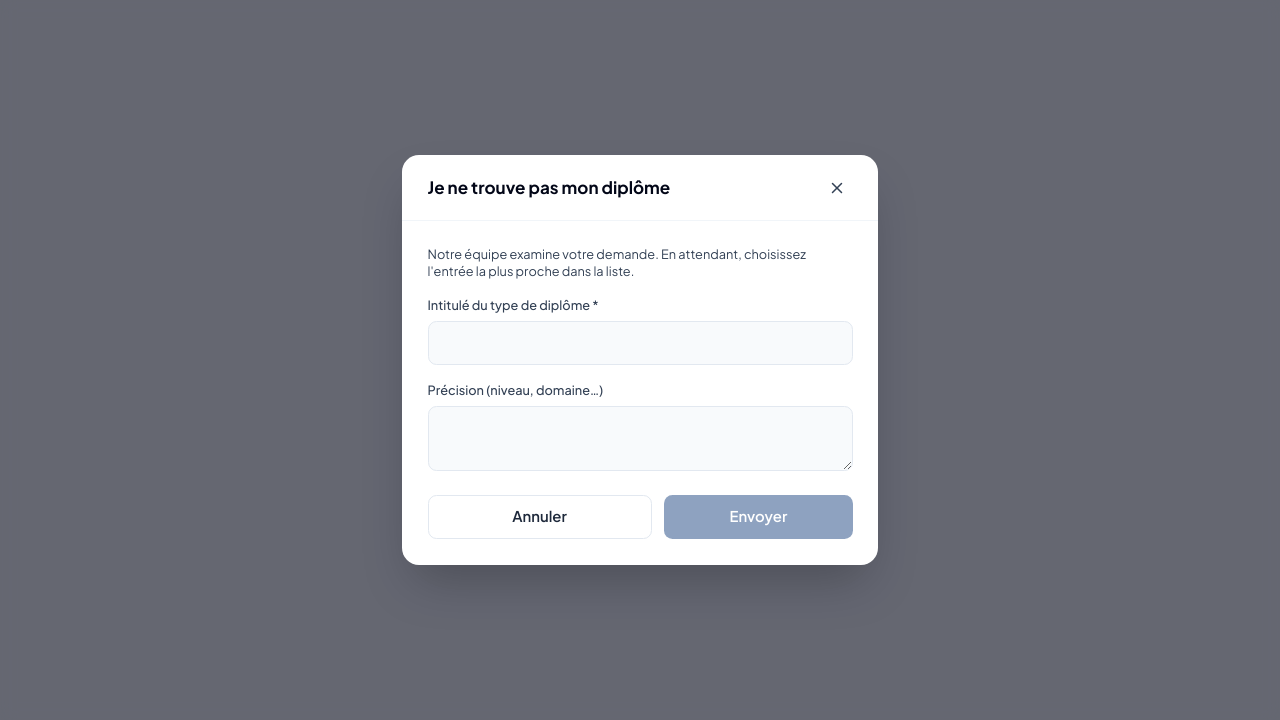
Test: 💡 <ProposerEntreeModal /> — « Je ne trouve pas mon diplôme / ma spécialité » › 🔒 Pas d'envoi sous 3 caractères
Expected: the button "Envoyer" is disabled, [664,495,852,539]
In the field labelled "Intitulé du type de diplôme *": (640, 343) [428,321,852,365], type "ab"
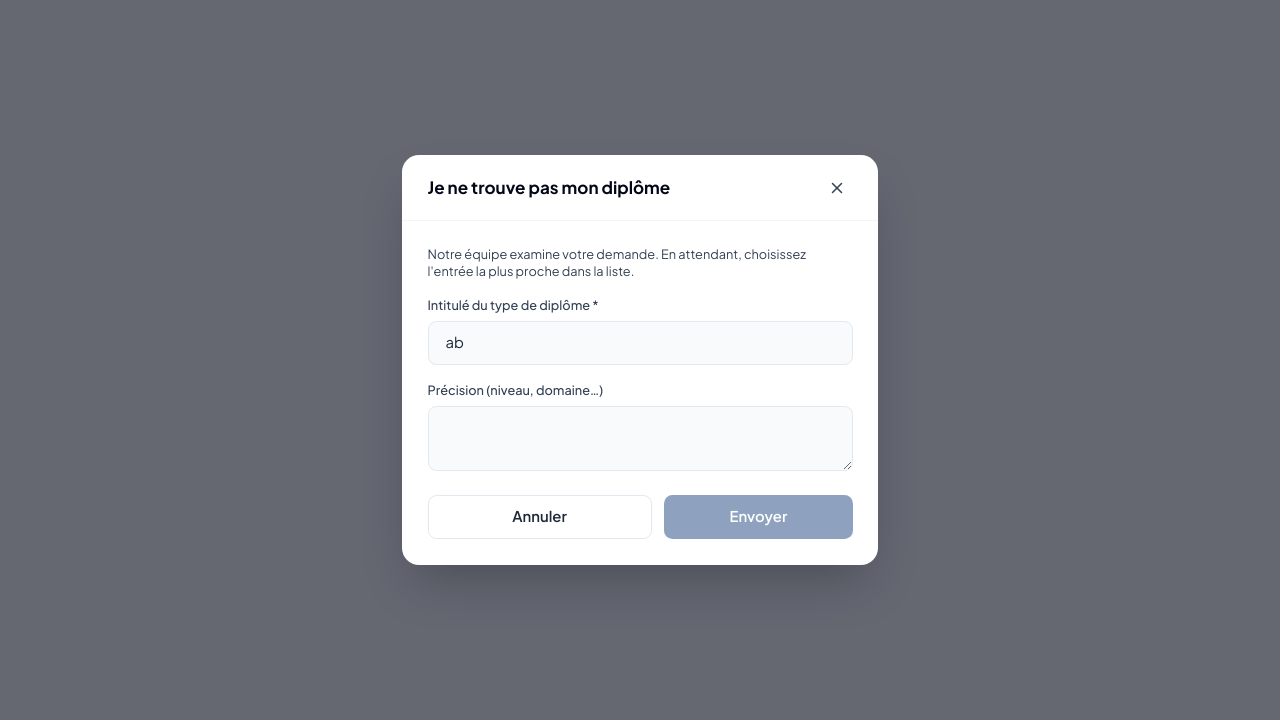
Expected: the button "Envoyer" is disabled, [664,495,852,539]
Replace the text in the field labelled "Intitulé du type de diplôme *" with "abc": (640, 343) [428,321,852,365]
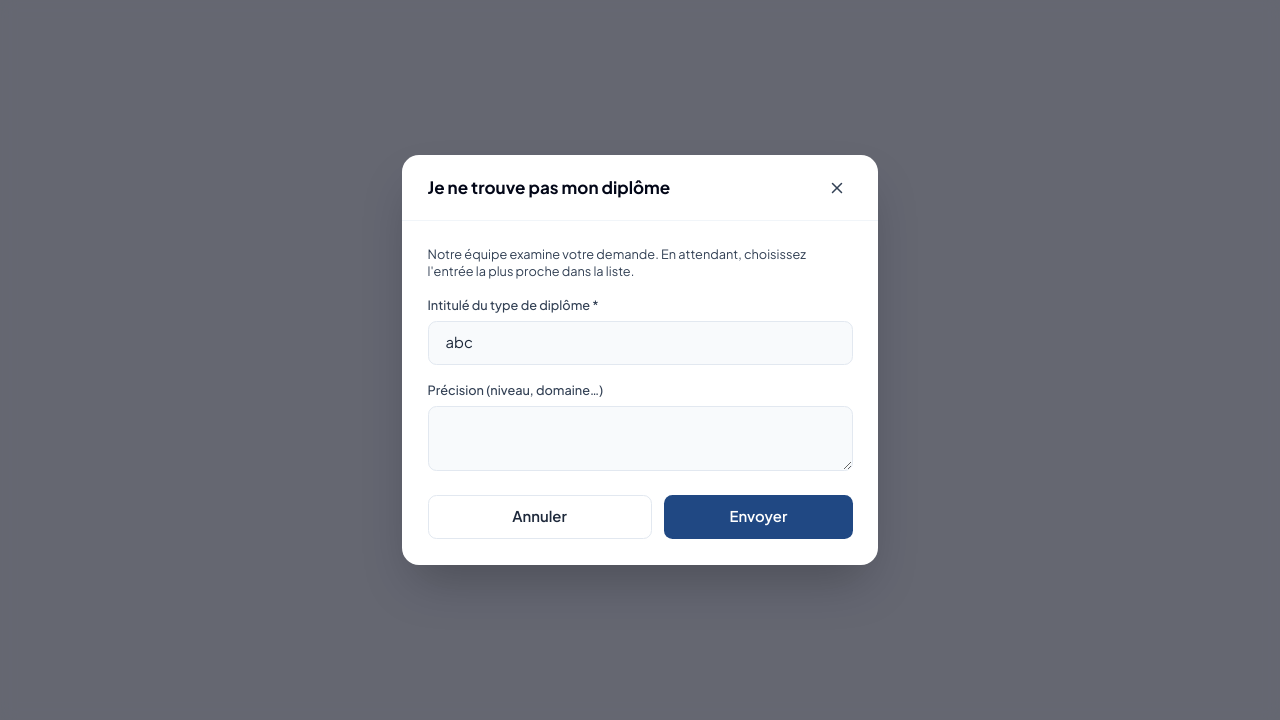
Expected: the button "Envoyer" is enabled, [664,495,852,539]
